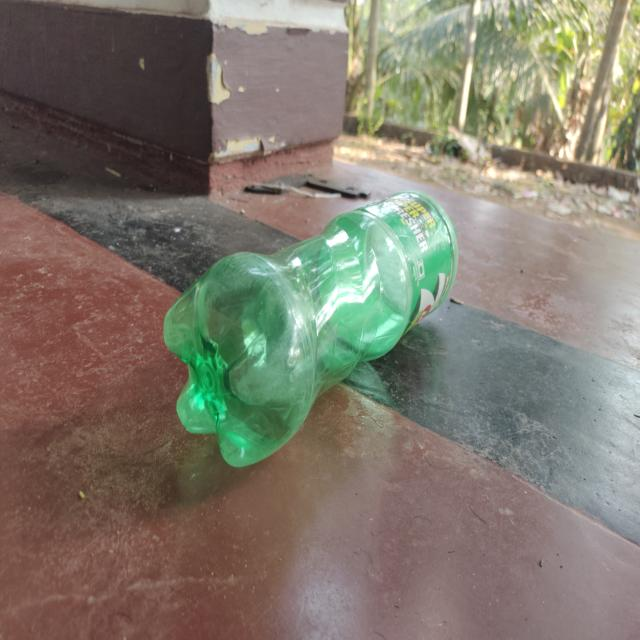plastic: (162, 189, 458, 469)
